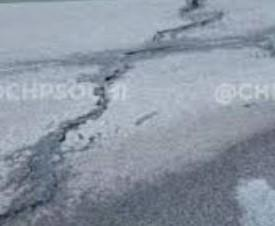alligator-crack: (2, 68, 133, 224), (118, 0, 274, 62)
